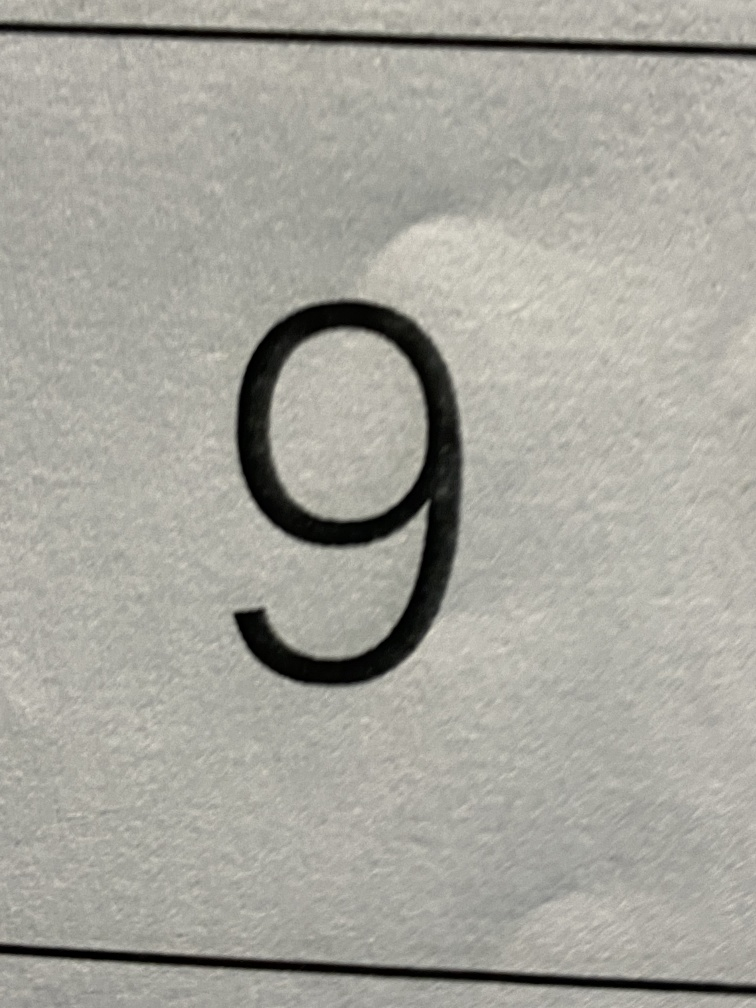nine: (169, 249, 526, 739)
